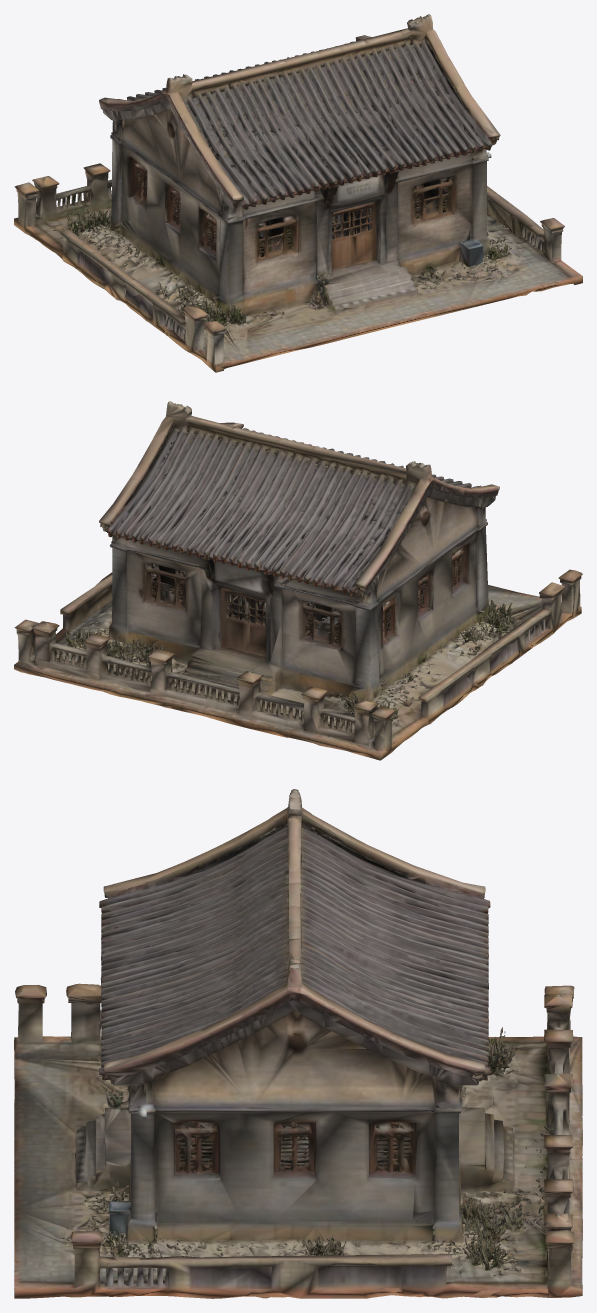
Rendered from bq_bookstore.hd.glb.
3 renders of one model, top to bottom at view 1: azimuth 30°, elevation 25°; view 2: azimuth 150°, elevation 25°; view 3: azimuth 270°, elevation 25°, orthographic. The views are drawn at different scales.
Bounding box in the file's own units: 1.9 × 1.02 × 1.79.
Materials: 1 (1 with a texture image).
